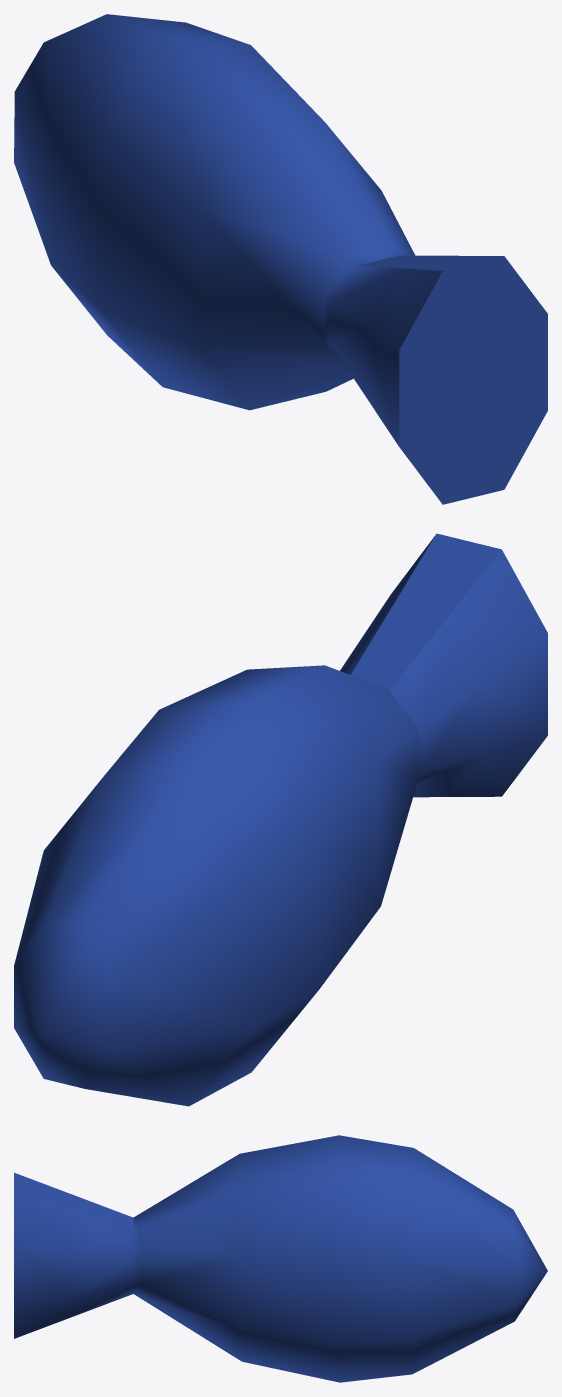
File: Fish.fbx
The picture shows the model from 3 angles, top to bottom: view 1: azimuth 30°, elevation 25°; view 2: azimuth 150°, elevation 25°; view 3: azimuth 270°, elevation 25°; orthographic projection. The views are drawn at different scales.
Parts seen in each view (by area): view 1: ST_Fish; view 2: ST_Fish; view 3: ST_Fish.
Boxes of the visible parts, bbox=[...] form: ST_Fish: bbox=[14, 14, 547, 504]; ST_Fish: bbox=[14, 533, 547, 1106]; ST_Fish: bbox=[14, 1135, 547, 1382].
Size of the model in its own units: 17.16 by 26.69 by 58.68.
